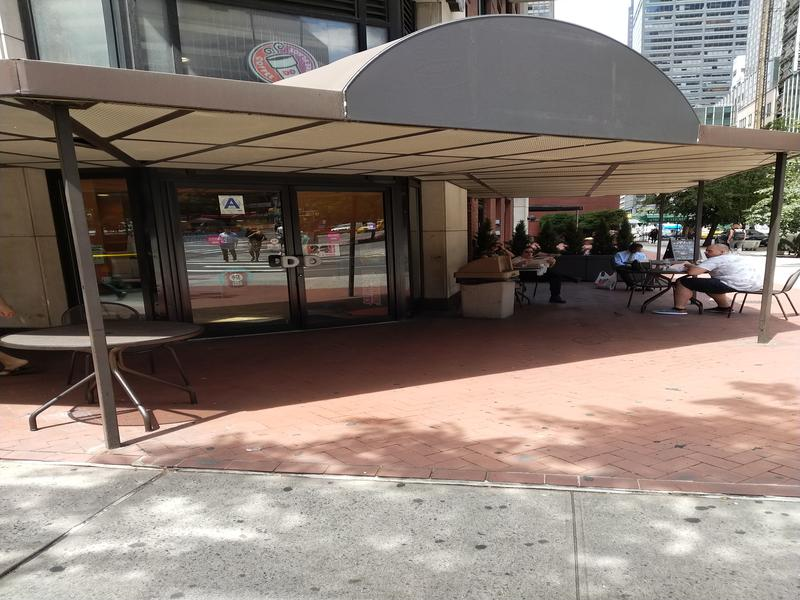double_door: (170, 168, 401, 336)
